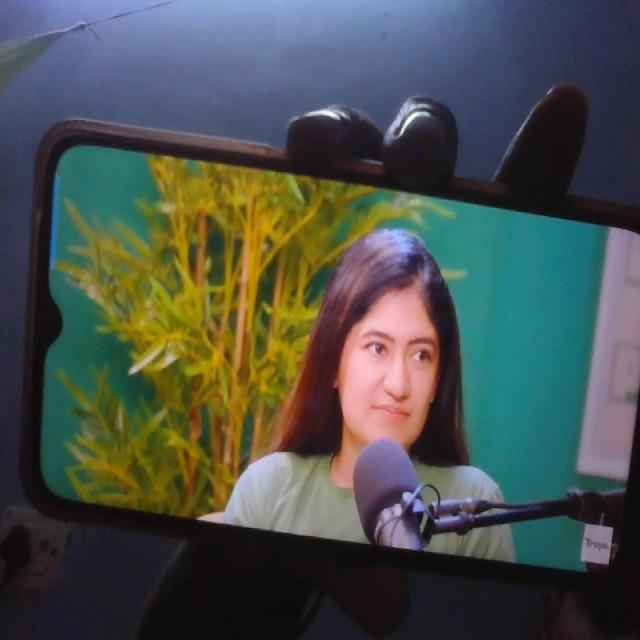fake: (324, 216, 452, 457)
